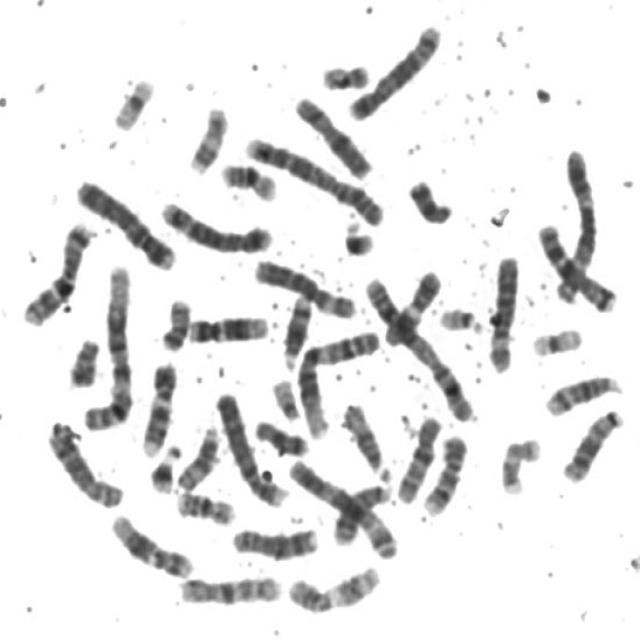A1: (290, 321, 382, 440), (76, 255, 136, 432)
A2: (357, 268, 477, 424), (238, 128, 388, 228)
A3: (281, 449, 400, 560), (549, 142, 599, 306)
B4: (68, 170, 178, 272), (208, 383, 292, 509)
B5: (340, 14, 444, 122), (153, 192, 275, 255)
C10: (390, 407, 444, 505), (172, 566, 283, 607)
C11: (281, 557, 384, 615), (378, 262, 443, 349)
C12: (103, 505, 195, 580), (180, 305, 272, 345)
C6: (247, 250, 358, 320), (480, 246, 522, 374)
C7: (14, 212, 95, 327), (531, 215, 620, 314)
C8: (40, 415, 126, 509), (224, 518, 320, 561)
C9: (416, 426, 470, 517), (135, 354, 179, 458)
D13: (555, 401, 626, 485), (326, 475, 394, 547)
D14: (537, 366, 624, 418), (275, 286, 314, 371)
D15: (335, 394, 394, 484), (169, 418, 221, 492)
E16: (213, 154, 280, 204), (168, 482, 238, 527)
E17: (182, 96, 230, 176), (493, 429, 544, 496)
E18: (400, 170, 455, 227), (248, 411, 310, 458)
F19: (105, 69, 157, 132), (524, 318, 585, 359)
F20: (153, 290, 193, 354), (314, 54, 372, 92)
G21: (142, 436, 182, 495), (336, 212, 377, 258)
G22: (264, 370, 303, 422), (432, 298, 486, 334)
X: (288, 86, 374, 180)
